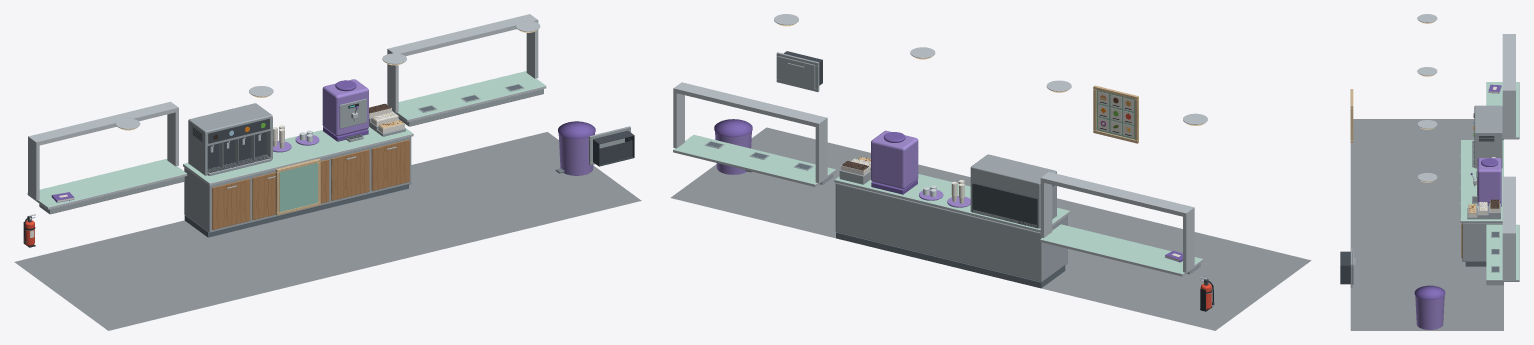
File: Kasa_Yerlesim.glb
3 views of the same model, side by side, from view 1: azimuth 30°, elevation 25°; view 2: azimuth 150°, elevation 25°; view 3: azimuth 270°, elevation 25° (orthographic). The views are drawn at different scales.
Parts seen in each view (by area): view 1: Ref_Zemin_980x300, SM_DrinkIceCounter, Kasa_Sove (×2), SM_DrinkMachine, SM_StationWindow_Delivery, SM_StationWindow_Order, SM_IceCreamMachine, SM_IngredientBoard, Door_4, Door_1, Door_5, SM_TrashBin (+5 smaller); view 2: Ref_Zemin_980x300, SM_DrinkIceCounter, Kasa_Sove (×2), SM_DrinkMachine, SM_StationWindow_Delivery, SM_StationWindow_Order, SM_IceCreamMachine, SM_IngredientBoard, Drawer, SM_StockHatch_Kasa, SM_TrashBin, Lid; view 3: Ref_Zemin_980x300, Kasa_Sove (×2), SM_DrinkIceCounter, SM_DrinkMachine, SM_StationWindow_Delivery, SM_IceCreamMachine, SM_TrashBin, SM_StationWindow_Order, SM_StockHatch_Kasa, SM_ToppingBins, Lid, SM_IngredientBoard (+4 smaller).
Boxes of the visible parts, left/top/right/bottom form: Ref_Zemin_980x300: left=14, top=132, right=641, bottom=330; SM_DrinkIceCounter: left=183, top=127, right=413, bottom=237; Kasa_Sove (×2): left=28, top=14, right=538, bottom=200; SM_DrinkMachine: left=188, top=103, right=272, bottom=175; SM_StationWindow_Delivery: left=392, top=71, right=546, bottom=126; SM_StationWindow_Order: left=27, top=158, right=187, bottom=214; SM_IceCreamMachine: left=322, top=79, right=368, bottom=142; SM_IngredientBoard: left=275, top=158, right=320, bottom=215; Door_4: left=331, top=149, right=369, bottom=200; Door_1: left=212, top=178, right=250, bottom=229; Door_5: left=371, top=139, right=409, bottom=190; SM_TrashBin: left=555, top=133, right=594, bottom=175; Ref_Zemin_980x300: left=670, top=127, right=1311, bottom=330; SM_DrinkIceCounter: left=834, top=174, right=1069, bottom=288; Kasa_Sove (×2): left=673, top=82, right=1194, bottom=272; SM_DrinkMachine: left=970, top=154, right=1056, bottom=228; SM_StationWindow_Delivery: left=673, top=135, right=835, bottom=186; SM_StationWindow_Order: left=1040, top=224, right=1202, bottom=276; SM_IceCreamMachine: left=871, top=130, right=918, bottom=194; SM_IngredientBoard: left=1093, top=85, right=1138, bottom=143; Drawer: left=778, top=56, right=815, bottom=89; SM_StockHatch_Kasa: left=776, top=51, right=822, bottom=91; SM_TrashBin: left=715, top=131, right=751, bottom=174; Lid: left=714, top=119, right=752, bottom=136; Ref_Zemin_980x300: left=1350, top=119, right=1503, bottom=330; Kasa_Sove (×2): left=1502, top=34, right=1515, bottom=280; SM_DrinkIceCounter: left=1460, top=140, right=1503, bottom=266; SM_DrinkMachine: left=1472, top=105, right=1502, bottom=168; SM_StationWindow_Delivery: left=1486, top=224, right=1519, bottom=285; SM_IceCreamMachine: left=1472, top=158, right=1501, bottom=206; SM_TrashBin: left=1415, top=296, right=1444, bottom=329; SM_StationWindow_Order: left=1486, top=82, right=1519, bottom=139; SM_StockHatch_Kasa: left=1340, top=248, right=1352, bottom=287; SM_ToppingBins: left=1467, top=200, right=1500, bottom=219; Lid: left=1414, top=285, right=1445, bottom=299; SM_IngredientBoard: left=1350, top=89, right=1353, bottom=142.
Bounding box in the file's own units: 9.8 × 2.75 × 3.5.
Materials: 7 (6 with a texture image).
